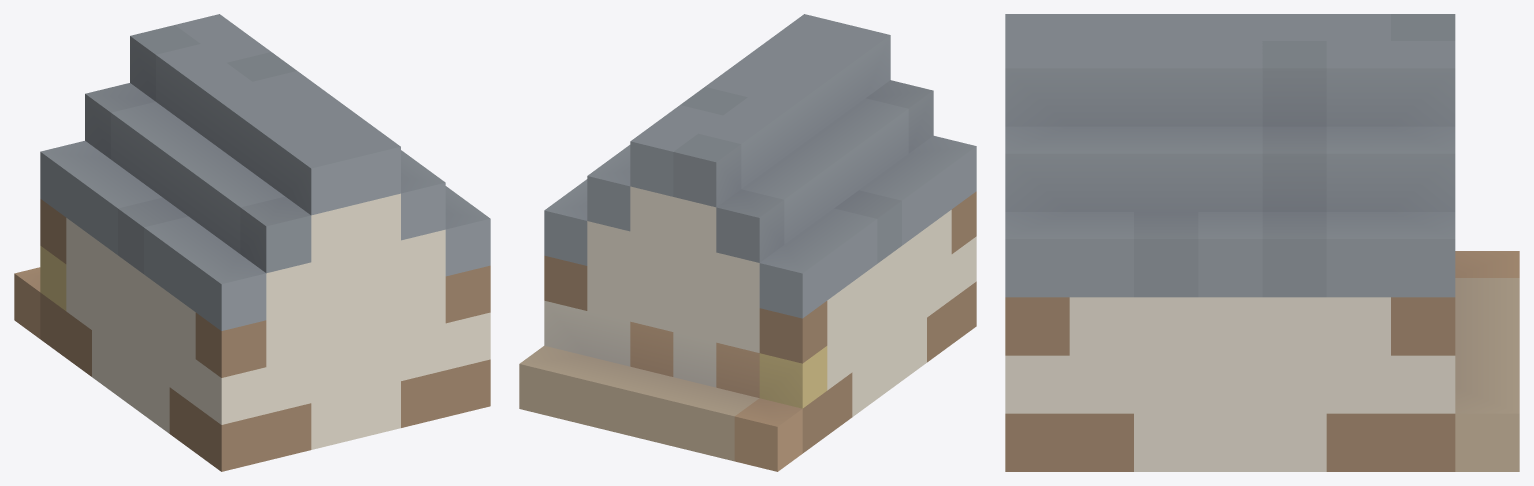
The model's file is hop_farm.lite.glb.
3 renders of one model, left to right at view 1: azimuth 30°, elevation 25°; view 2: azimuth 150°, elevation 25°; view 3: azimuth 270°, elevation 25°, orthographic. The views are drawn at different scales.
Visible parts, largest first — view 1: hop_farm; view 2: hop_farm; view 3: hop_farm.
Part boxes in pixels (<box>): hop_farm: <box>14,14,490,471</box>; hop_farm: <box>519,14,976,471</box>; hop_farm: <box>1005,14,1519,471</box>.
Bounding box in the file's own units: 3 × 3 × 4.
